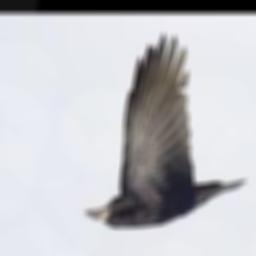Crow: (84, 36, 245, 228)
